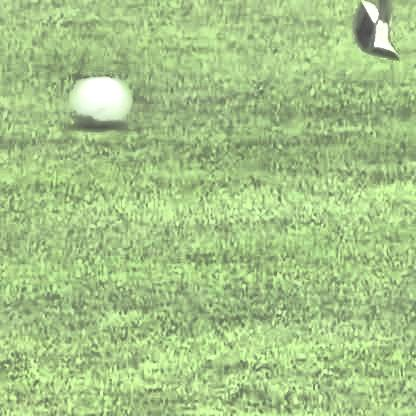golfball: (71, 79, 127, 127)
